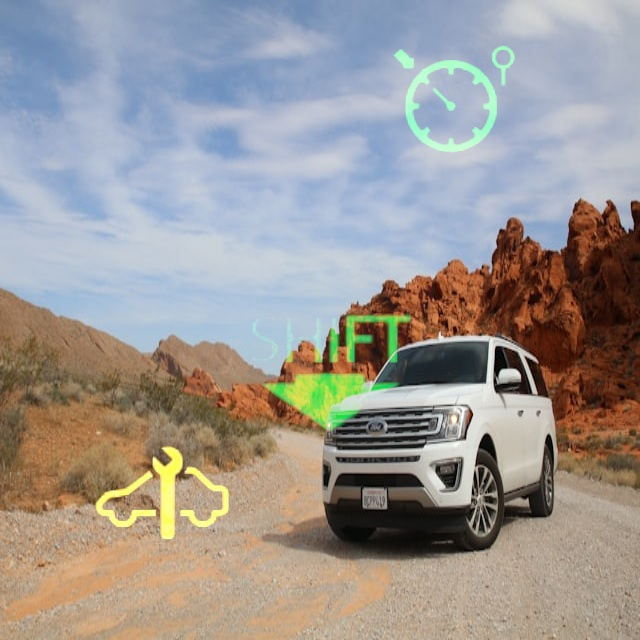symbol: (220, 260, 434, 474), (364, 11, 544, 191), (73, 407, 250, 584)
